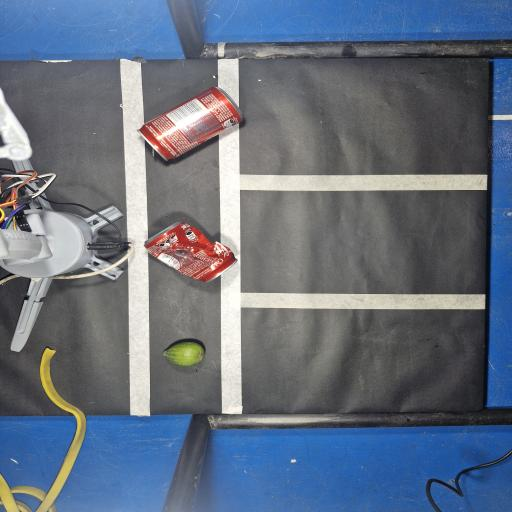higo: (163, 342, 204, 366)
lata: (137, 87, 243, 161)
lata_defectuoso: (145, 222, 236, 282)
